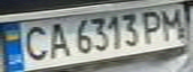1: (106, 11, 124, 50)
3: (118, 10, 142, 47), (90, 14, 109, 52)
6: (72, 16, 93, 55)
A: (42, 19, 72, 60)
C: (18, 23, 51, 62)
M: (157, 6, 187, 40)
P: (136, 8, 169, 44)
